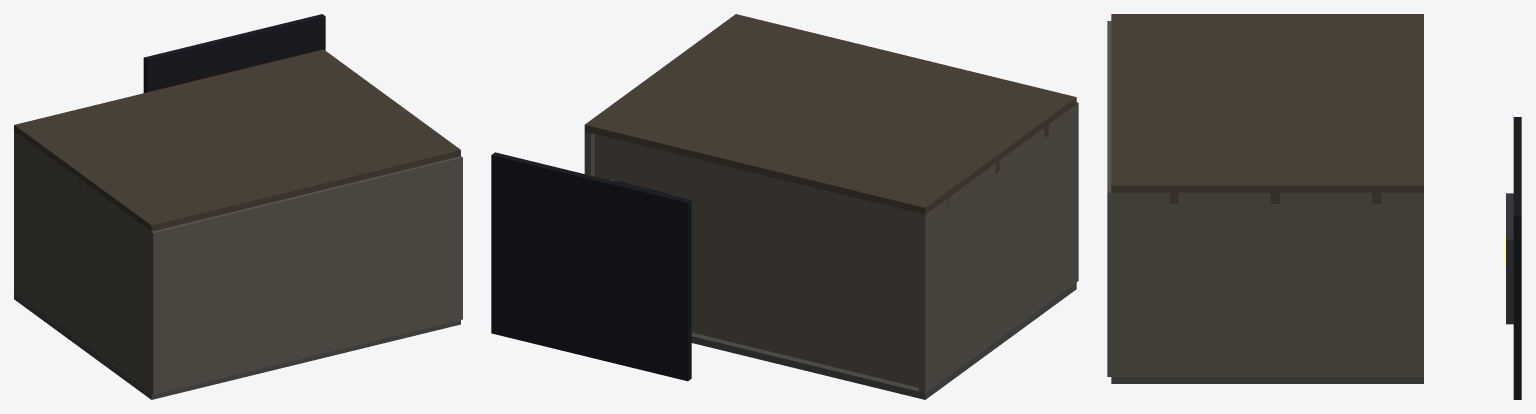
The model's file is garage.glb.
The picture shows the model from 3 angles, left to right: view 1: azimuth 30°, elevation 25°; view 2: azimuth 150°, elevation 25°; view 3: azimuth 270°, elevation 25°; orthographic projection. The views are drawn at different scales.
Parts seen in each view (by area): view 1: Wall_Back, Ceiling, Wall_Left, Street, Floor, Wall_Front; view 2: Ceiling, Wall_Front, Street, Wall_Left, Floor, Wall_Front_Top, Wall_Front_R, Wall_Back; view 3: Wall_Right, Ceiling, Street, Wall_Back, Floor, Wall_Front_R, BrunosHouse.
Boxes of the visible parts, bbox=[...] form: Wall_Back: bbox=[150, 156, 462, 394]; Ceiling: bbox=[14, 49, 460, 231]; Wall_Left: bbox=[14, 131, 151, 393]; Street: bbox=[143, 14, 325, 92]; Floor: bbox=[14, 293, 460, 399]; Wall_Front: bbox=[17, 134, 20, 297]; Ceiling: bbox=[584, 14, 1076, 214]; Wall_Front: bbox=[670, 152, 932, 389]; Street: bbox=[491, 152, 691, 381]; Wall_Left: bbox=[918, 105, 1074, 392]; Floor: bbox=[691, 282, 1076, 399]; Wall_Front_Top: bbox=[611, 138, 670, 193]; Wall_Front_R: bbox=[595, 134, 613, 180]; Wall_Back: bbox=[1075, 102, 1078, 283]; Wall_Right: bbox=[1111, 192, 1423, 376]; Ceiling: bbox=[1111, 14, 1423, 192]; Street: bbox=[1513, 117, 1521, 399]; Wall_Back: bbox=[1107, 21, 1115, 376]; Floor: bbox=[1111, 377, 1423, 383]; Wall_Front_R: bbox=[1408, 192, 1415, 376]; BrunosHouse: bbox=[1506, 193, 1513, 324].
Bounding box in the file's own units: 5.9 × 2.8 × 5.3.
